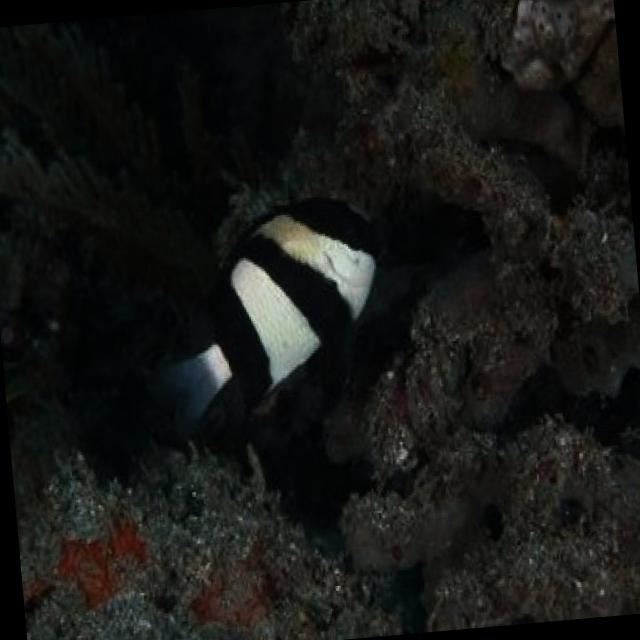Three_striped DasmselFish: (128, 184, 397, 450)
